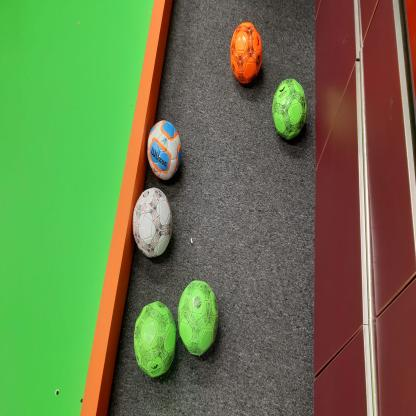ball: (134, 300, 176, 378), (178, 281, 219, 357), (133, 186, 173, 258), (273, 78, 307, 141), (147, 119, 181, 179), (230, 22, 262, 83)
